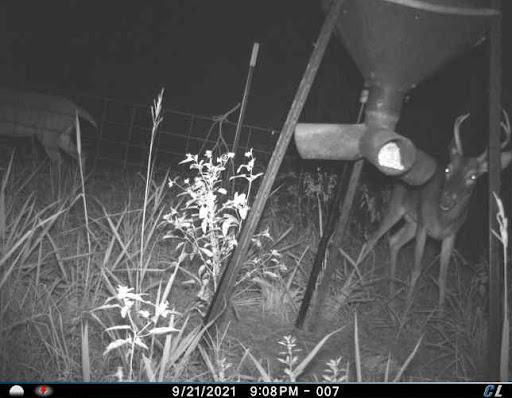Deer: (345, 105, 511, 313), (0, 72, 92, 202)
